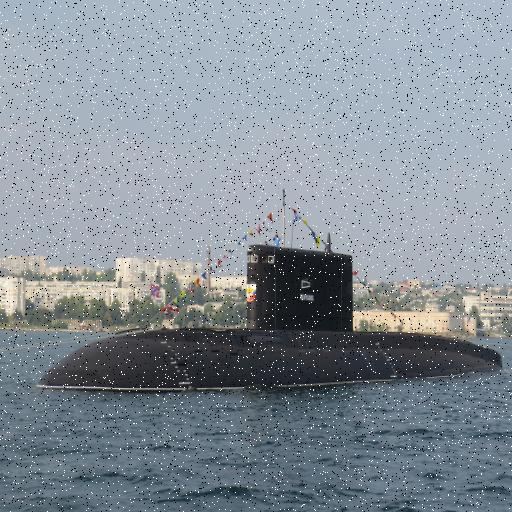submarine: (37, 249, 505, 387)
